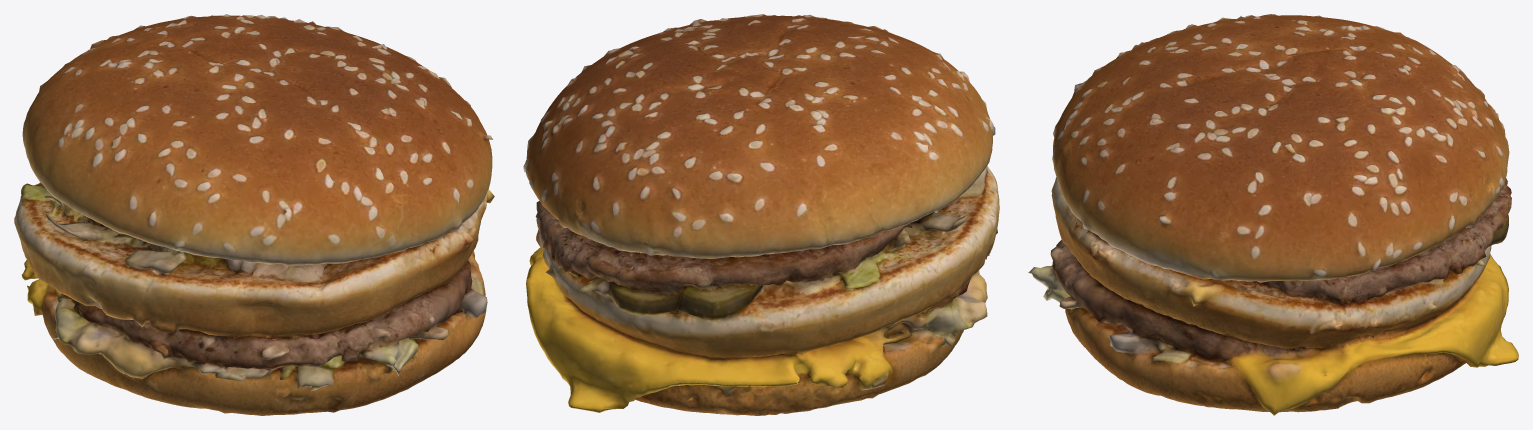
Rendered from hamburger.glb.
The picture shows the model from 3 angles, left to right: view 1: azimuth 30°, elevation 25°; view 2: azimuth 150°, elevation 25°; view 3: azimuth 270°, elevation 25°; orthographic projection. The views are drawn at different scales.
Parts seen in each view (by area): view 1: remesh; view 2: remesh; view 3: remesh.
Part boxes in pixels (x1,y1,x2,y2): remesh: (14,14,494,415); remesh: (523,14,999,415); remesh: (1028,14,1518,415).
Bounding box in the file's own units: 0.1331 × 0.083 × 0.1392.
1 material, 1 textured.
